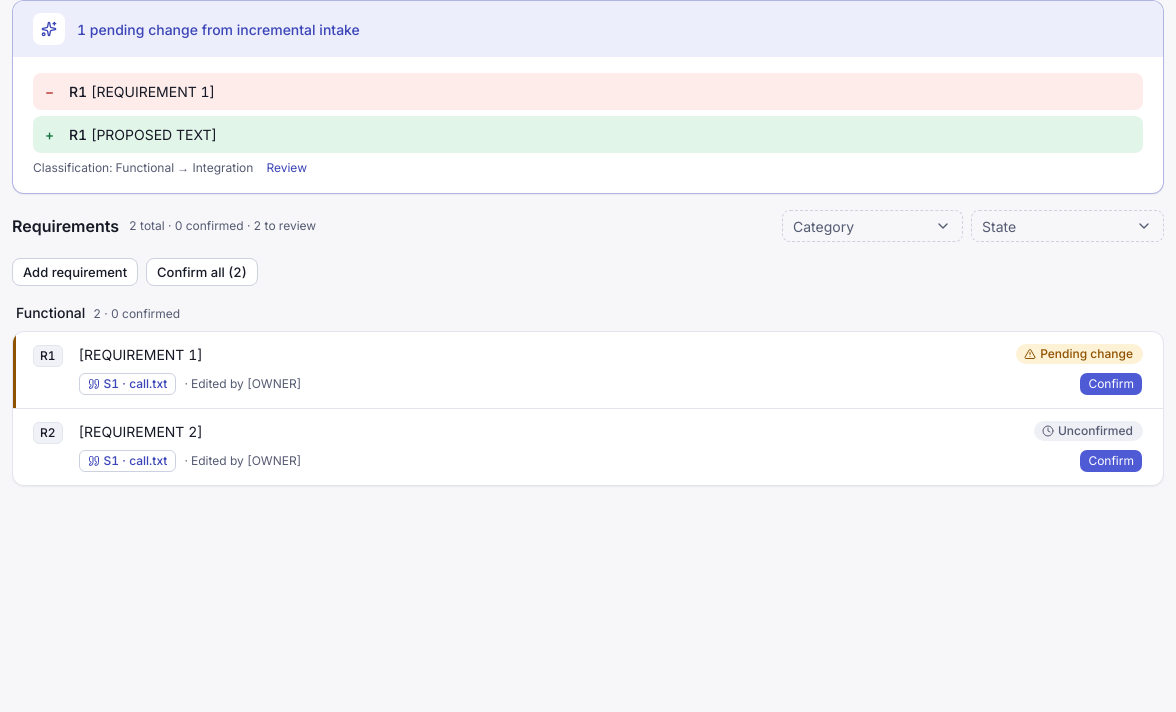
Test: a Requirement with a pending change › Accept applies it with If-Match, the marker goes, and the notice is read again
Click the button "[REQUIREMENT 1]": (141, 354) [79,344,1000,365]
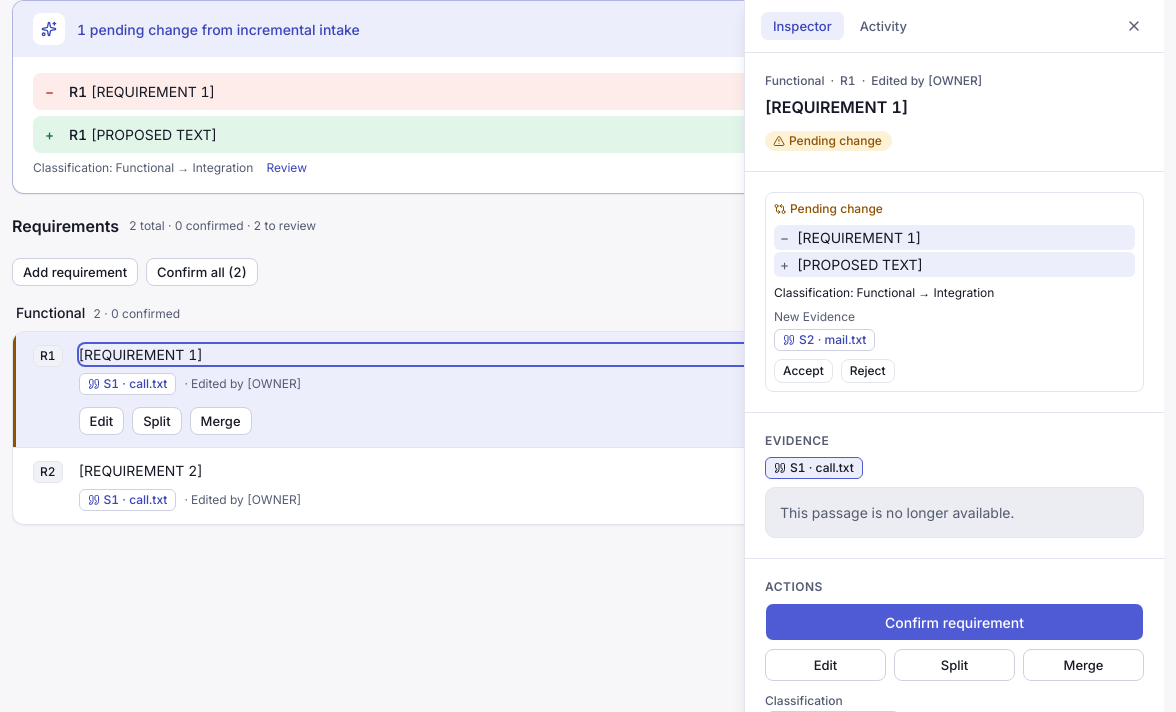
Click the button "Accept": (803, 371) [774,359,833,383]
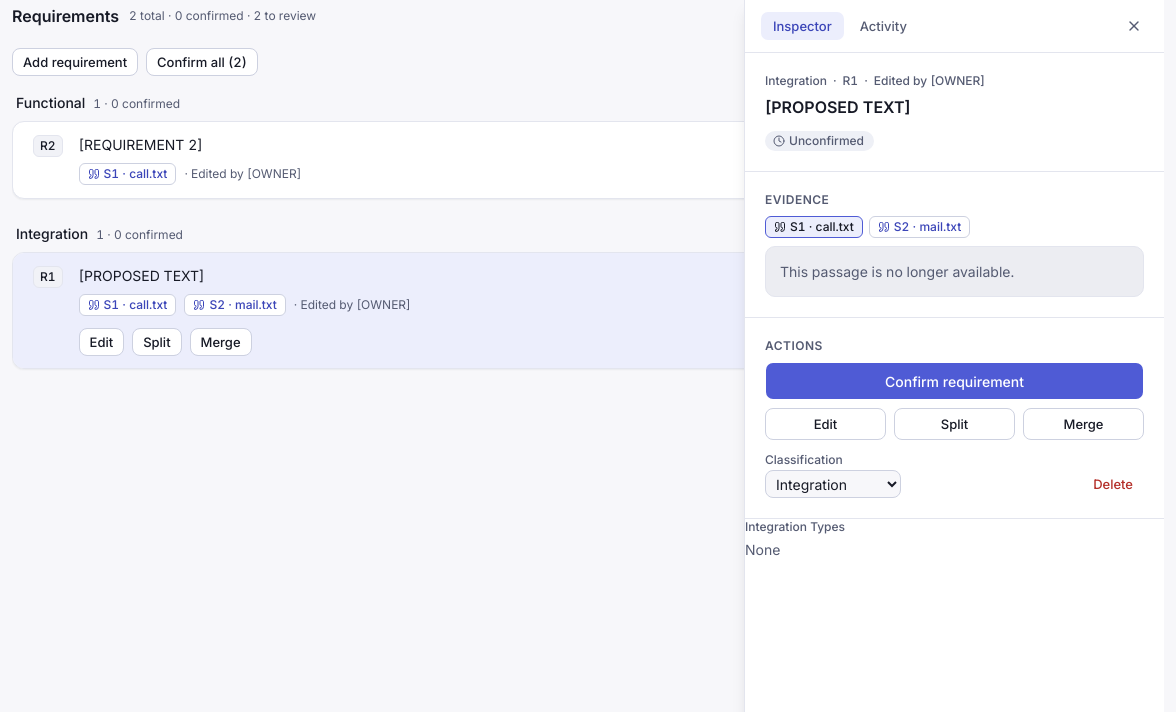
expect the text "pending change" is gone: met
expect the element with test id "pending-change" is gone: met
